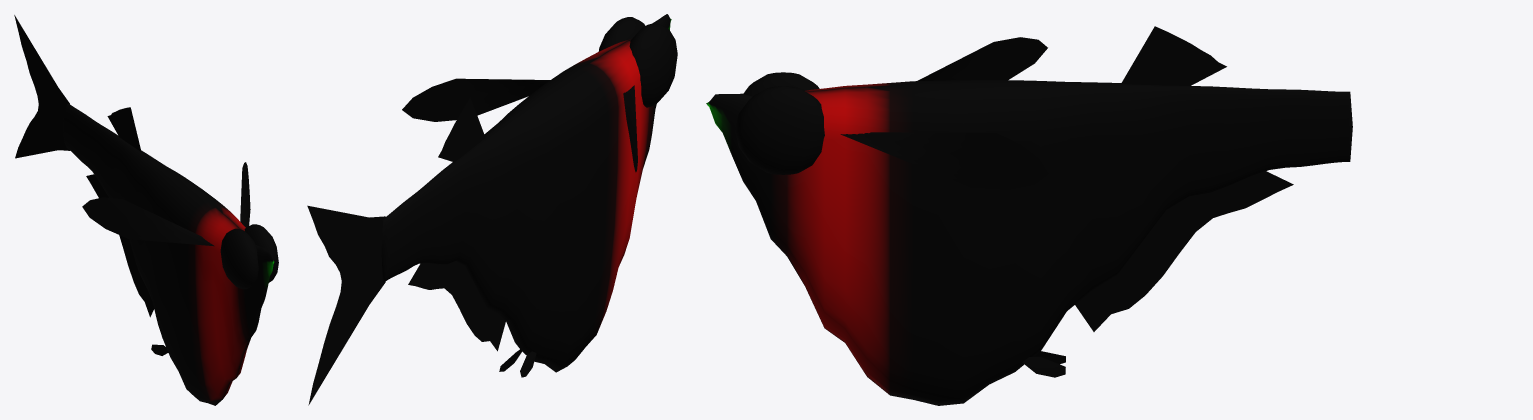
The model's file is silver-hatchetfish.glb.
3 views of the same model, side by side, from view 1: azimuth 30°, elevation 25°; view 2: azimuth 150°, elevation 25°; view 3: azimuth 270°, elevation 25° (orthographic). The views are drawn at different scales.
Parts seen in each view (by area): view 1: hatchet_body, hatchet_caudal, hatchet_pectoralL, hatchet_eyeL, hatchet_anal, hatchet_dorsal, hatchet_eyeR, hatchet_pectoralR; view 2: hatchet_body, hatchet_caudal, hatchet_pectoralR, hatchet_anal, hatchet_eyeL, hatchet_dorsal, hatchet_eyeR, hatchet_pectoralL; view 3: hatchet_body, hatchet_anal, hatchet_pectoralR, hatchet_eyeR, hatchet_dorsal, hatchet_pectoralL, hatchet_eyeL.
Boxes of the visible parts, left/top/right/bottom form: hatchet_body: left=63, top=103, right=274, bottom=405; hatchet_caudal: left=14, top=15, right=69, bottom=158; hatchet_pectoralL: left=82, top=197, right=214, bottom=246; hatchet_eyeL: left=220, top=228, right=258, bottom=289; hatchet_anal: left=86, top=174, right=153, bottom=317; hatchet_dorsal: left=107, top=107, right=141, bottom=151; hatchet_eyeR: left=244, top=224, right=278, bottom=282; hatchet_pectoralR: left=240, top=162, right=250, bottom=227; hatchet_body: left=381, top=14, right=671, bottom=372; hatchet_caudal: left=307, top=205, right=385, bottom=405; hatchet_pectoralR: left=402, top=78, right=550, bottom=121; hatchet_anal: left=408, top=261, right=505, bottom=351; hatchet_eyeL: left=629, top=23, right=677, bottom=107; hatchet_dorsal: left=438, top=97, right=485, bottom=162; hatchet_eyeR: left=598, top=17, right=645, bottom=51; hatchet_pectoralL: left=623, top=85, right=637, bottom=172; hatchet_body: left=706, top=80, right=1352, bottom=405; hatchet_anal: left=1075, top=171, right=1293, bottom=331; hatchet_pectoralR: left=840, top=132, right=1048, bottom=189; hatchet_eyeR: left=735, top=86, right=824, bottom=174; hatchet_dorsal: left=1121, top=26, right=1226, bottom=85; hatchet_pectoralL: left=917, top=37, right=1047, bottom=80; hatchet_eyeL: left=743, top=72, right=819, bottom=96.
Bounding box in the file's own units: 0.4635 × 0.6714 × 1.26.
